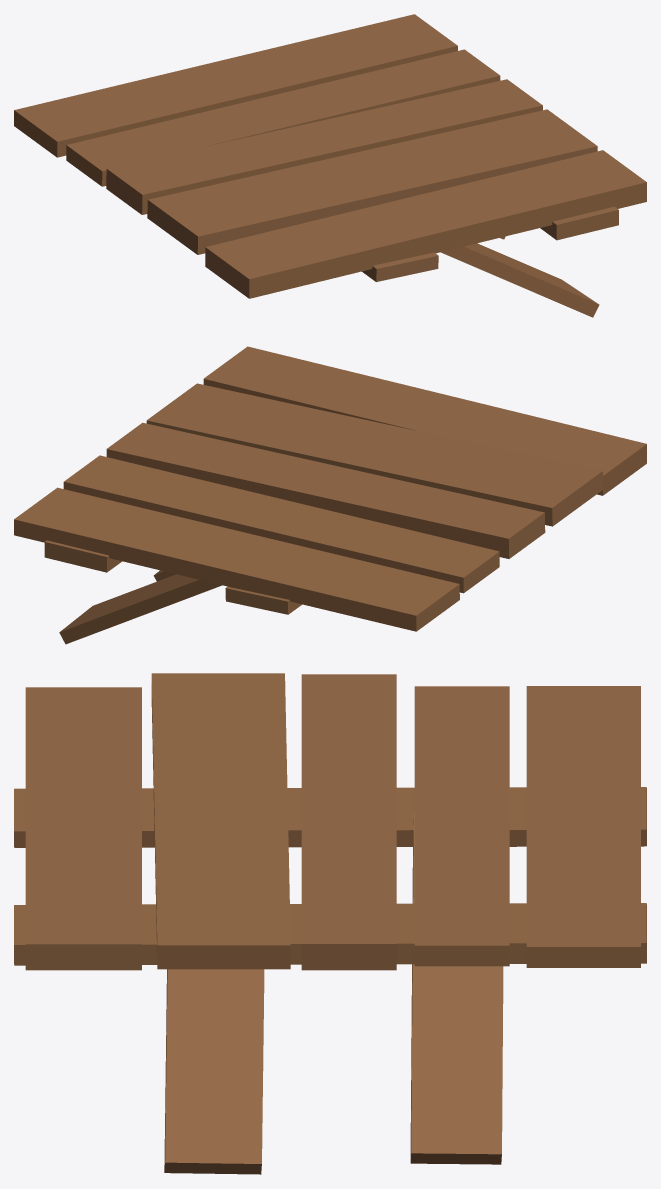
The model's file is Scaffolding.fbx.
The picture shows the model from 3 angles, top to bottom: view 1: azimuth 30°, elevation 25°; view 2: azimuth 150°, elevation 25°; view 3: azimuth 270°, elevation 25°; orthographic projection. The views are drawn at different scales.
Parts seen in each view (by area): view 1: Scaffolding; view 2: Scaffolding; view 3: Scaffolding.
Part boxes in pixels (x1,y1,x2,y2): Scaffolding: (14,14,646,317); Scaffolding: (14,346,646,644); Scaffolding: (14,673,646,1174).
Size of the model in its own units: 98.96 by 42.36 by 99.87.
